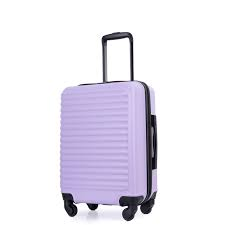suitcase: (56, 31, 161, 221)
